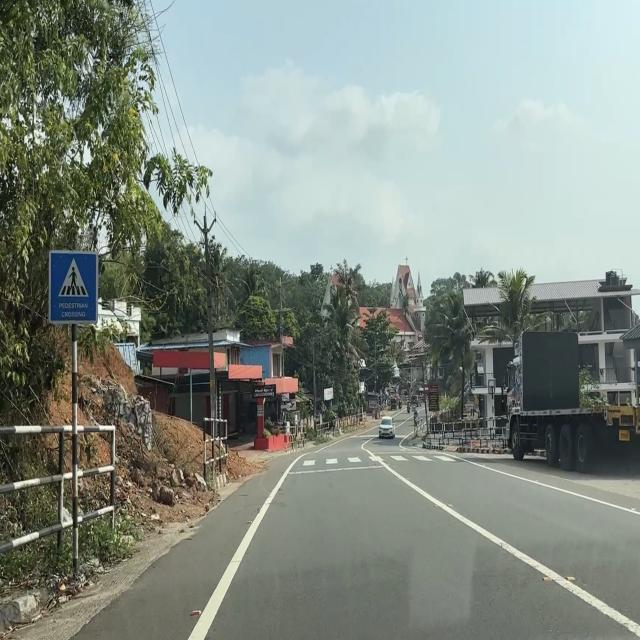PEDESTRIAN_CROSSING: (48, 249, 99, 326)
